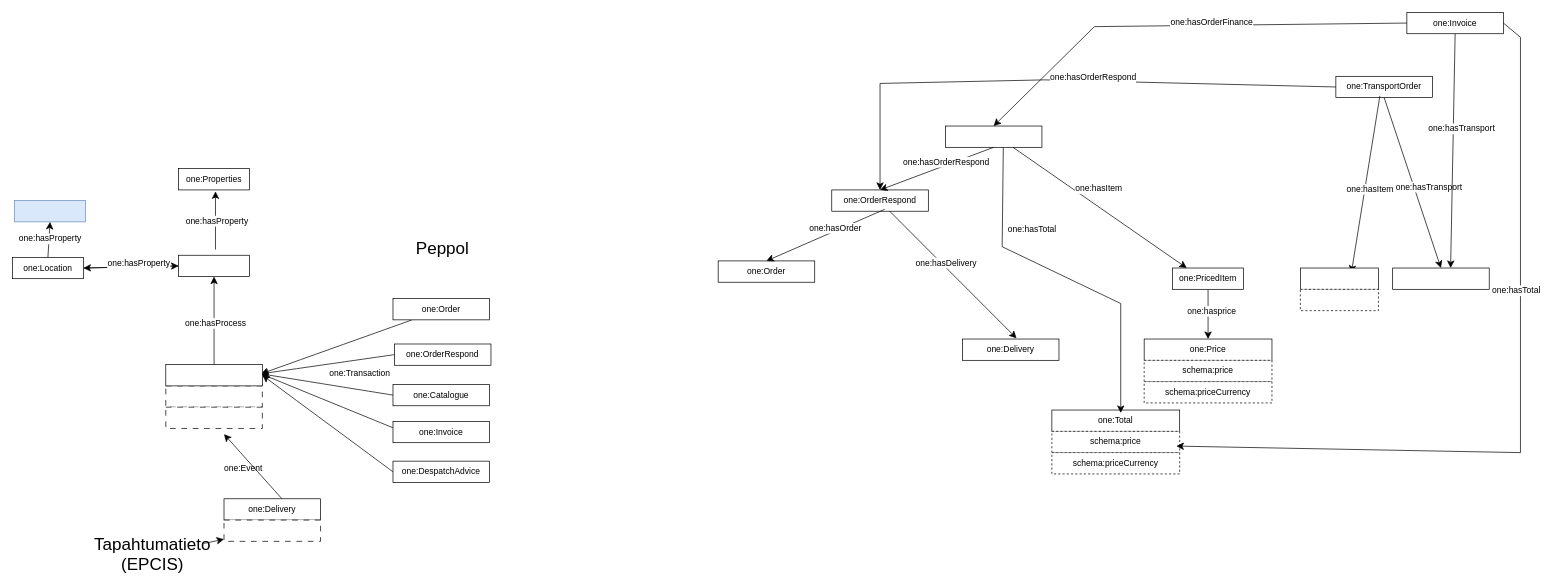
Some shapes in this 1552 by 587 pixel diagram are drawn without their labels. Each missing label, with the centre of its shape:
BOT: ontologia: the point at 50,211
one:Buyer: the point at 213,396
one:Item: the point at 214,266
one:OrderFinance: the point at 993,136
one:Pack kg m3: the point at 1339,300
one:Party: the point at 213,375
one:Seller: the point at 213,417
one:Transport: the point at 1440,278
one:Transportation (EPCIS): the point at 272,530
one:TransportItem: the point at 1339,278
